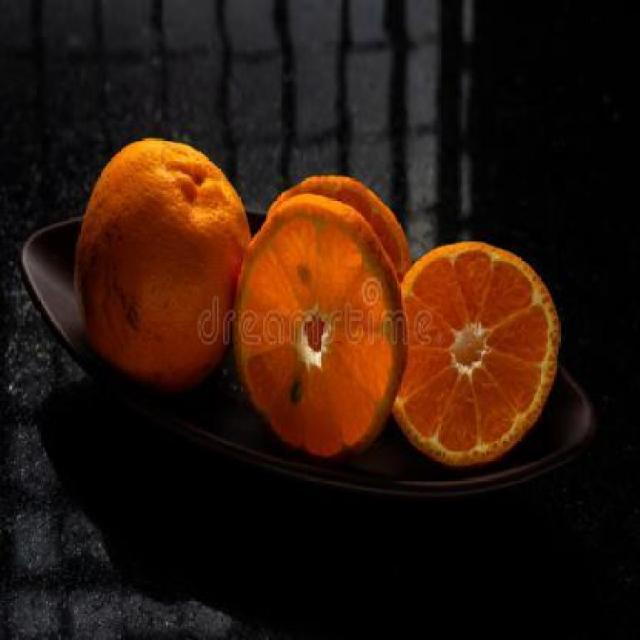Jeruk Sudah Matang: (76, 140, 250, 376)
